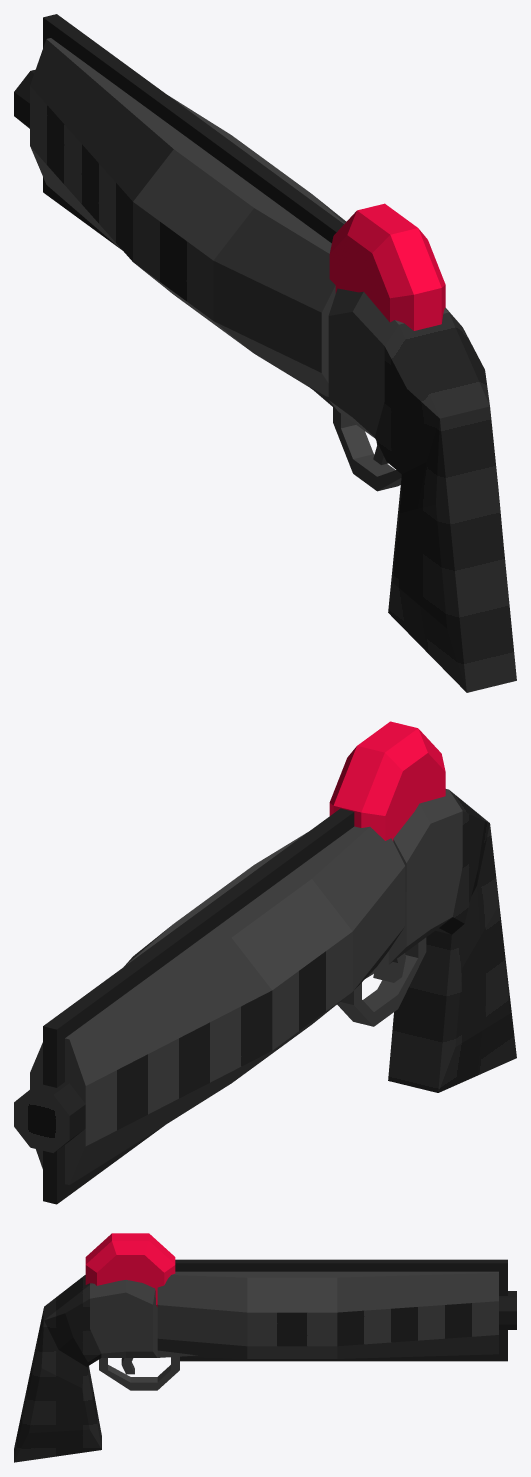
The model's file is plasma_pistol.gltf.
3 renders of one model, top to bottom at view 1: azimuth 30°, elevation 25°; view 2: azimuth 150°, elevation 25°; view 3: azimuth 270°, elevation 25°, orthographic. The views are drawn at different scales.
Parts seen in each view (by area): view 1: cylinder (×2), cuboid (×3); view 2: cylinder (×3), cuboid (×3); view 3: cylinder (×3), cuboid (×3).
Boxes of the visible parts, x1=… form: cylinder (×2): x1=30, y1=38, x2=445, y2=396; cuboid (×3): x1=43, y1=14, x2=516, y2=692; cylinder (×3): x1=14, y1=721, x2=445, y2=1184; cuboid (×3): x1=43, y1=789, x2=516, y2=1204; cylinder (×3): x1=85, y1=1233, x2=516, y2=1358; cuboid (×3): x1=14, y1=1259, x2=507, y2=1462.
Bounding box in the file's own units: 0.0625 × 0.1678 × 0.3498.
Materials: 1 (1 with a texture image).
